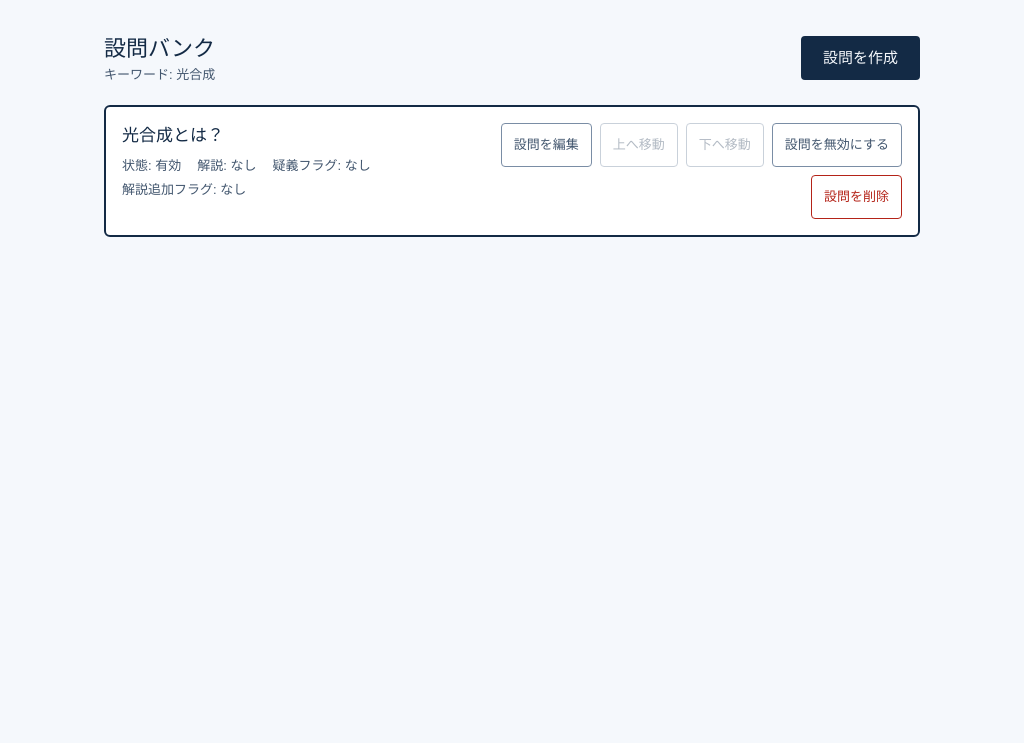
Test: QuestionBankPage › 編集競合時はdraftを保持し、明示的な確認後に現在版を再読込する
Click the button "設問を編集".
click(546, 144)  # box x1=501 y1=122 x2=592 y2=166
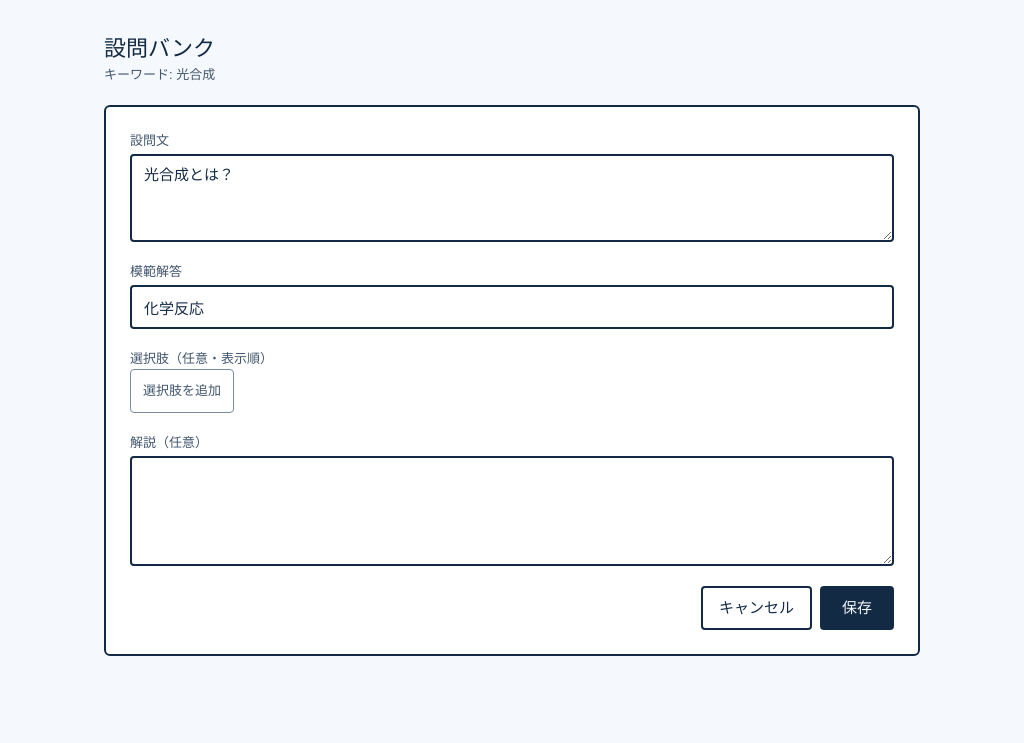
Replace the text in the text box labelled "設問文" with "手元のdraft" at [512, 198], box x1=130 y1=154 x2=894 y2=242
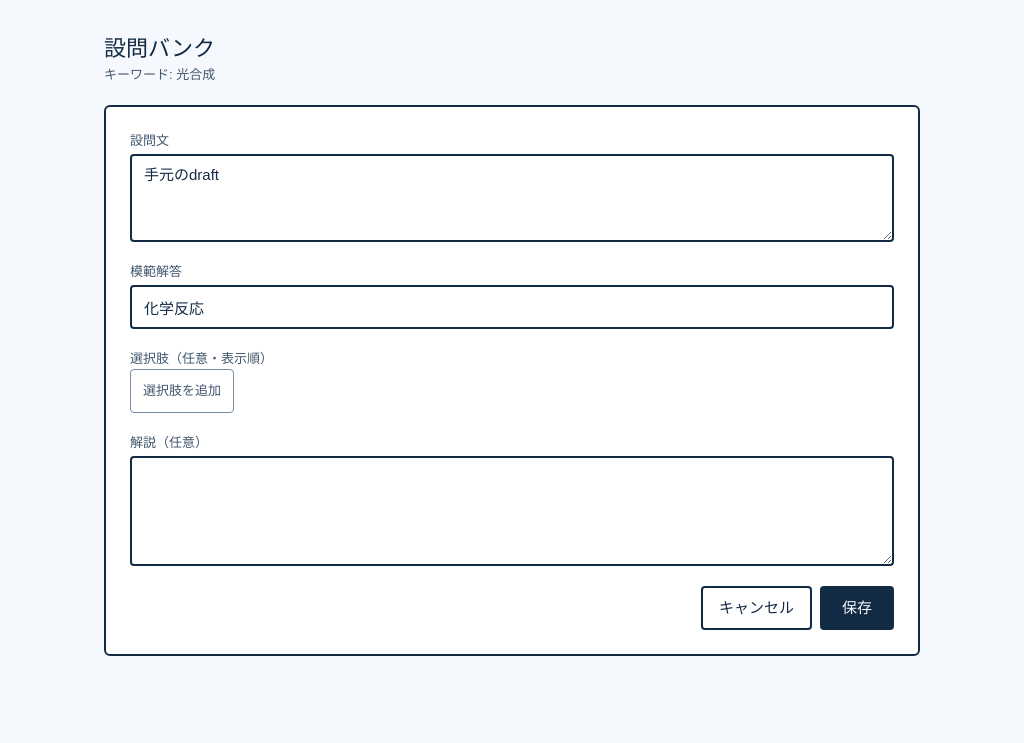
Click the button "保存".
click(857, 608)  # box x1=820 y1=586 x2=894 y2=630
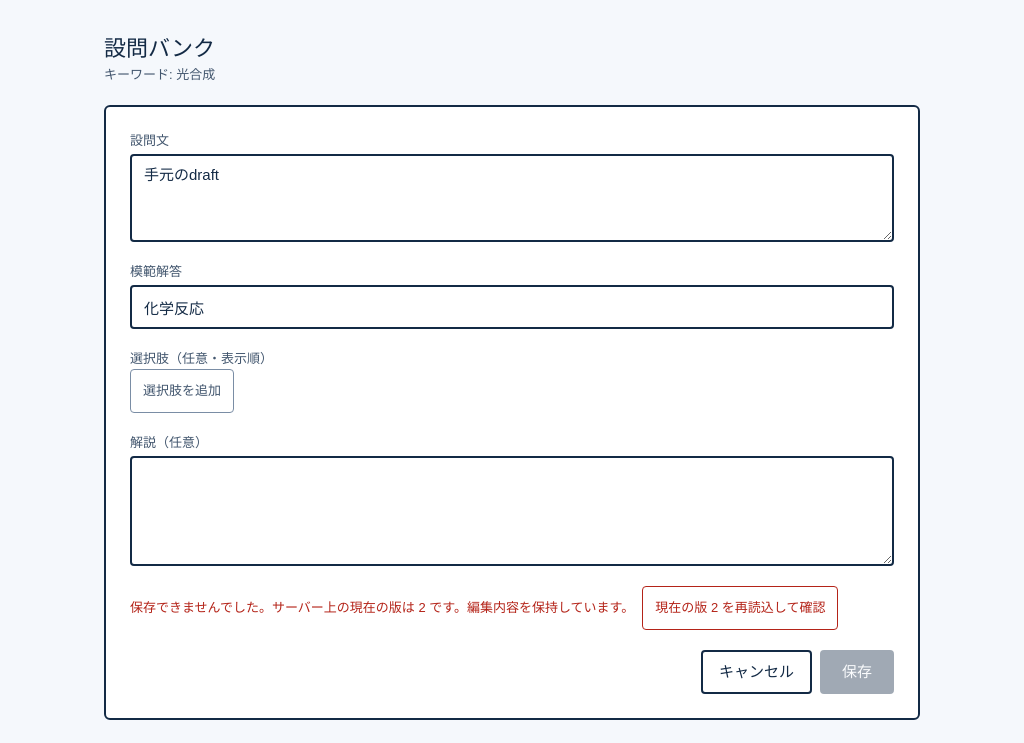
Click the button "現在の版 2 を再読込して確認".
click(740, 608)  # box x1=642 y1=586 x2=838 y2=630
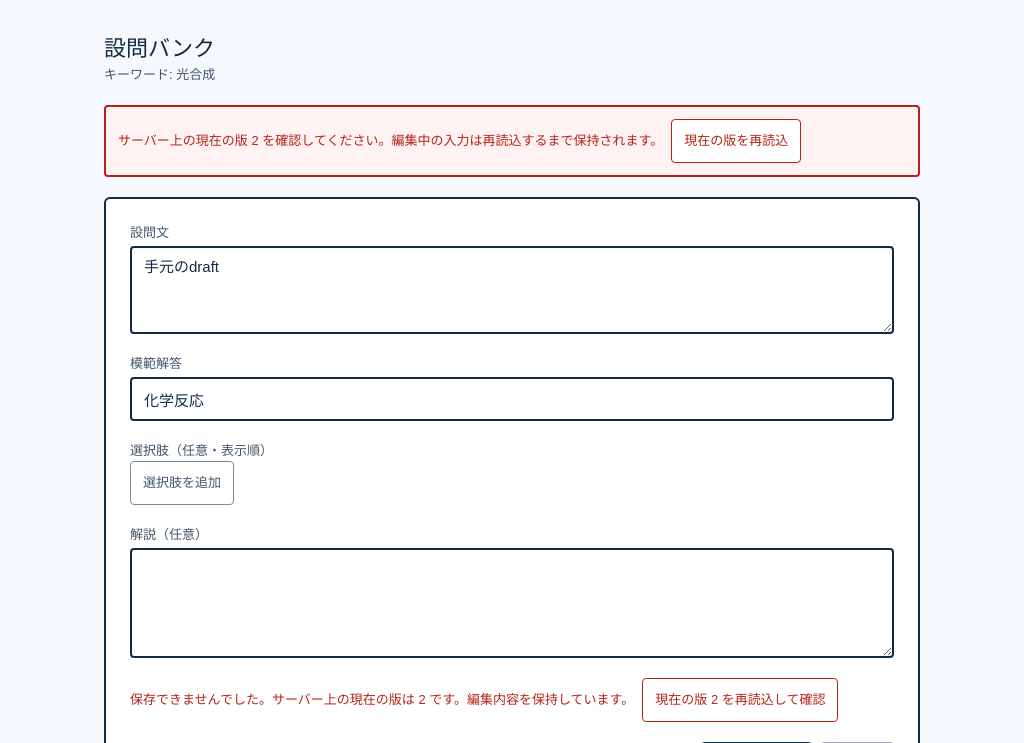
Click the button "現在の版を再読込".
click(736, 140)  # box x1=671 y1=118 x2=801 y2=162
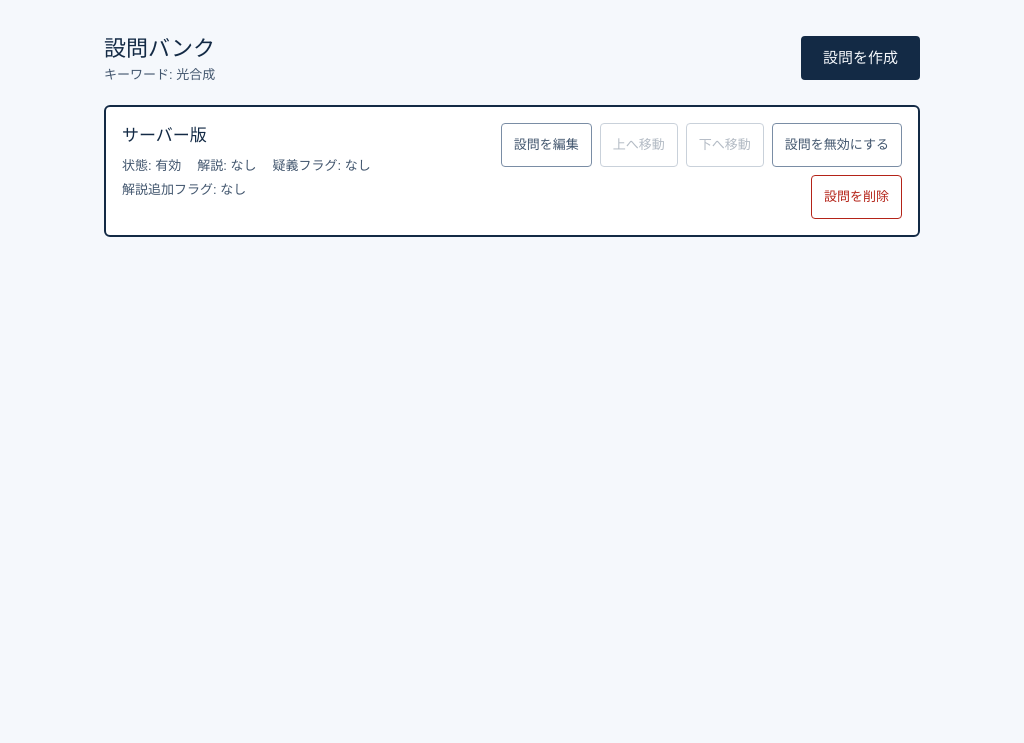
Check: the heading "サーバー版" is shown, box x1=122 y1=126 x2=207 y2=144
